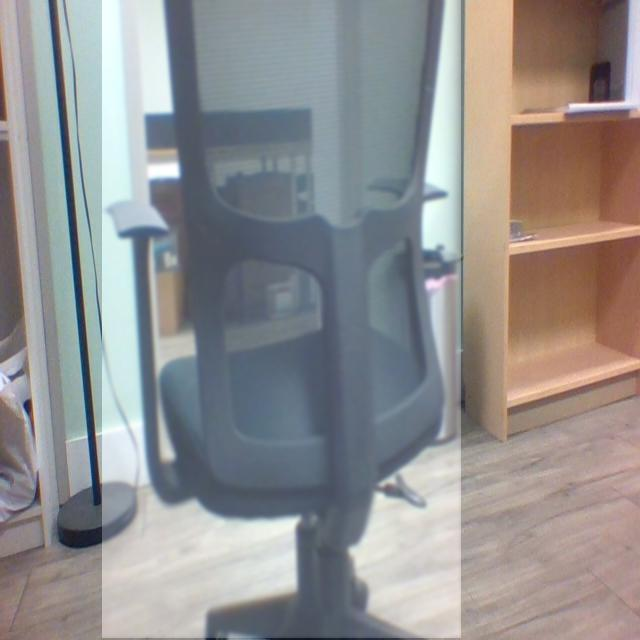chair: (102, 1, 462, 640)
